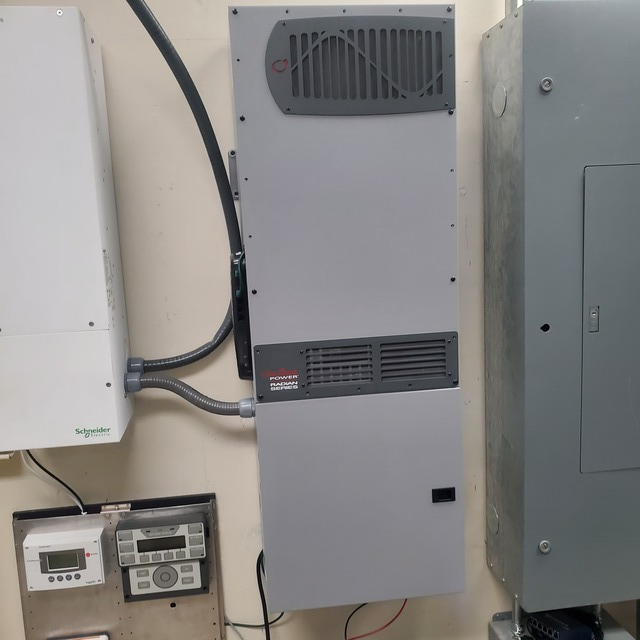inverter: (226, 4, 472, 613)
